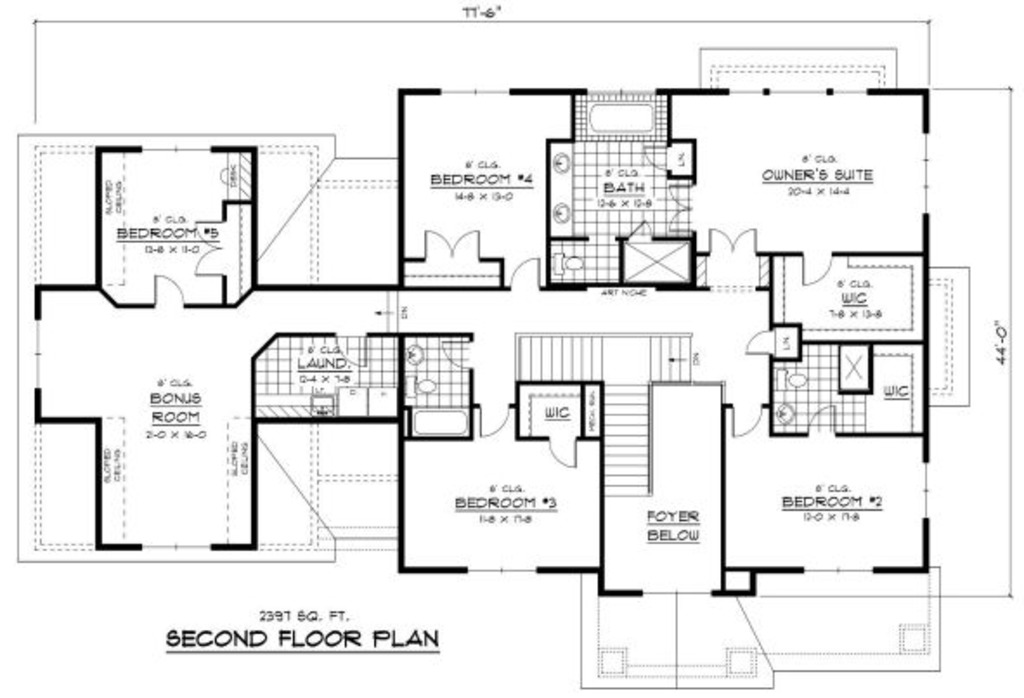door: (417, 224, 483, 266), (192, 218, 231, 277), (702, 226, 758, 255), (727, 403, 767, 441), (798, 248, 834, 288), (507, 253, 542, 292), (151, 272, 183, 310), (543, 437, 578, 471), (743, 327, 776, 358)
large_sink: (550, 247, 587, 278), (401, 373, 439, 402), (776, 363, 809, 393)
small_sink: (549, 143, 579, 238), (401, 335, 428, 370), (773, 398, 798, 433)
stairs: (508, 332, 702, 388), (602, 376, 655, 502)
tub: (574, 96, 669, 141), (409, 405, 471, 441)
windows: (715, 83, 872, 99), (436, 83, 520, 102), (133, 138, 214, 157), (30, 314, 47, 394), (920, 129, 933, 226), (639, 586, 715, 601), (133, 541, 214, 554), (917, 458, 934, 517), (463, 561, 536, 574)
